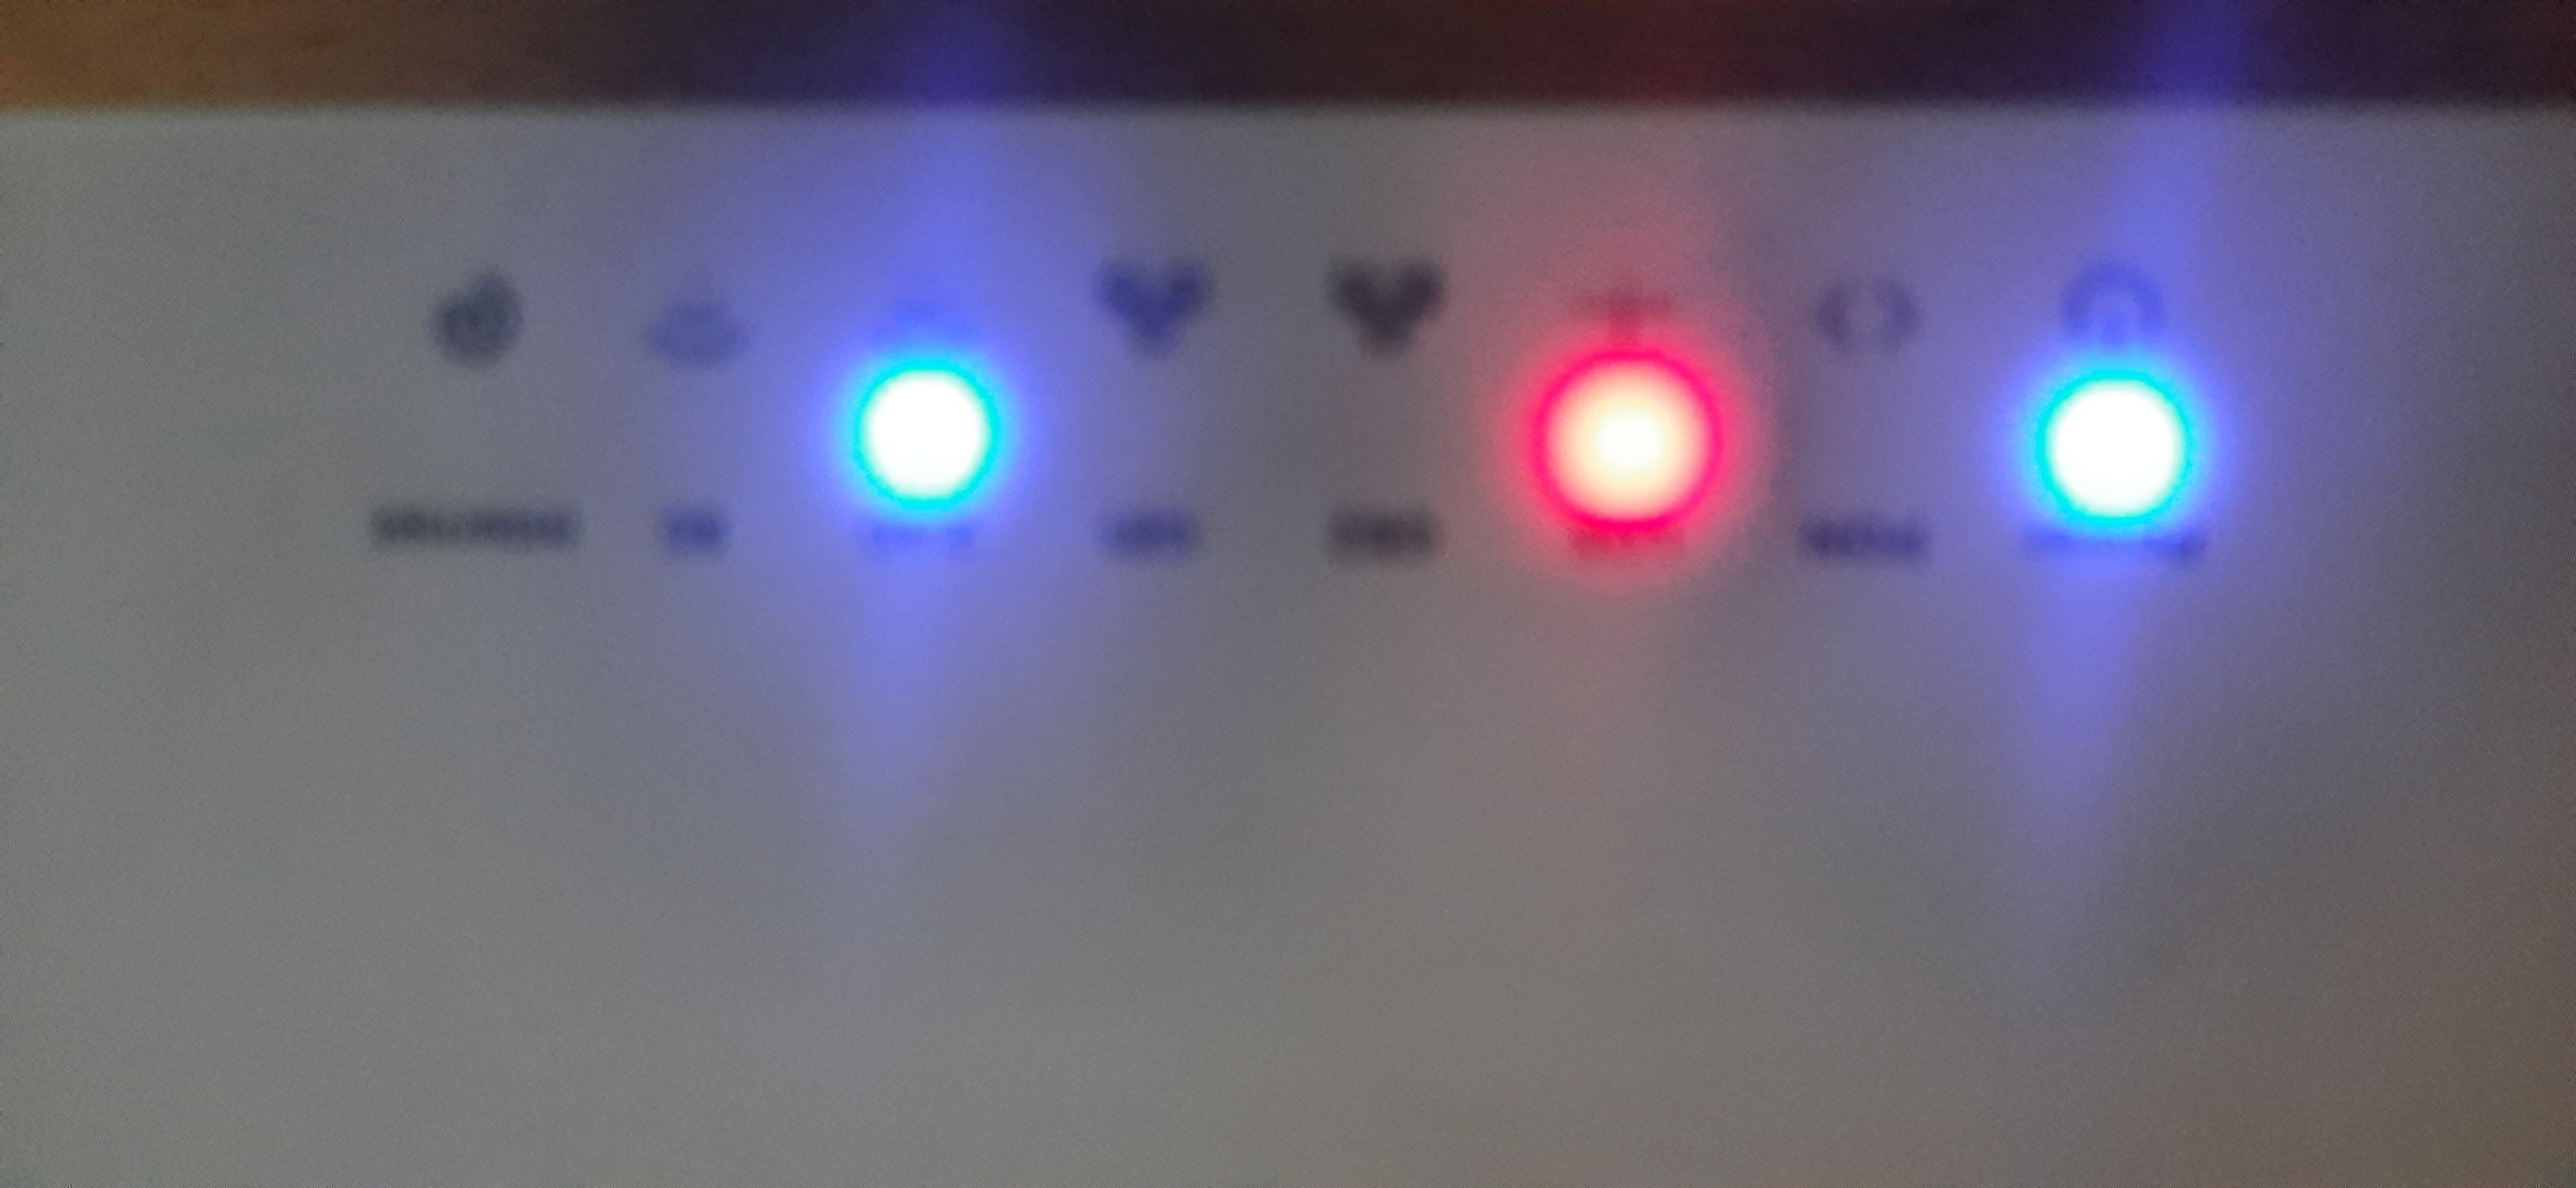LOSConnectionIssue: (1470, 248, 1781, 590)
